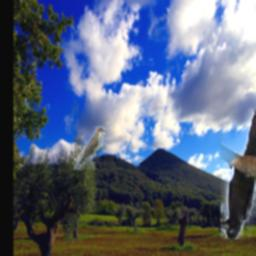Crow: (221, 110, 256, 240)
Cuckoo: (73, 127, 105, 171)
